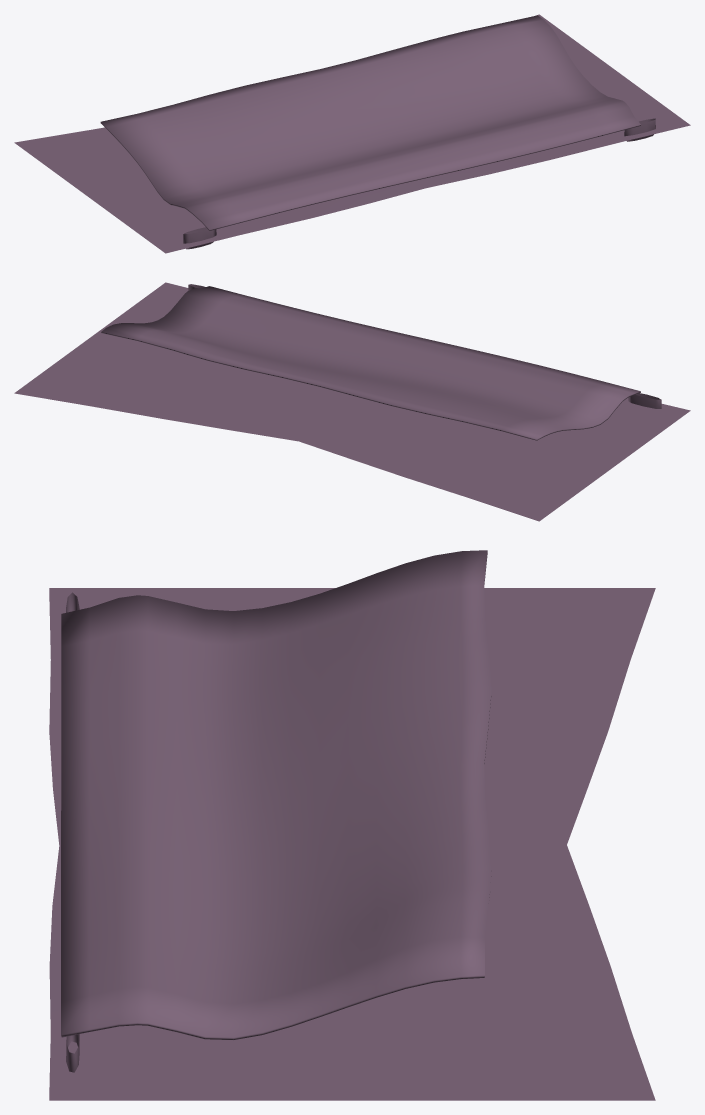
Rendered from station_elna.glb.
The picture shows the model from 3 angles, top to bottom: view 1: azimuth 30°, elevation 25°; view 2: azimuth 150°, elevation 25°; view 3: azimuth 270°, elevation 25°; orthographic projection. The views are drawn at different scales.
Parts seen in each view (by area): view 1: WorkContactPart, RetainedFoldedCloth; view 2: RetainedFoldedCloth, WorkContactPart; view 3: WorkContactPart, RetainedFoldedCloth.
Boxes of the visible parts, left/top/right/bottom form: WorkContactPart: left=100, top=15, right=640, bottom=230; RetainedFoldedCloth: left=14, top=14, right=690, bottom=253; RetainedFoldedCloth: left=14, top=282, right=690, bottom=521; WorkContactPart: left=101, top=286, right=640, bottom=440; WorkContactPart: left=61, top=550, right=491, bottom=1039; RetainedFoldedCloth: left=49, top=588, right=655, bottom=1100.
Bounding box in the file's own units: 0.48 × 0.0429 × 0.24.
